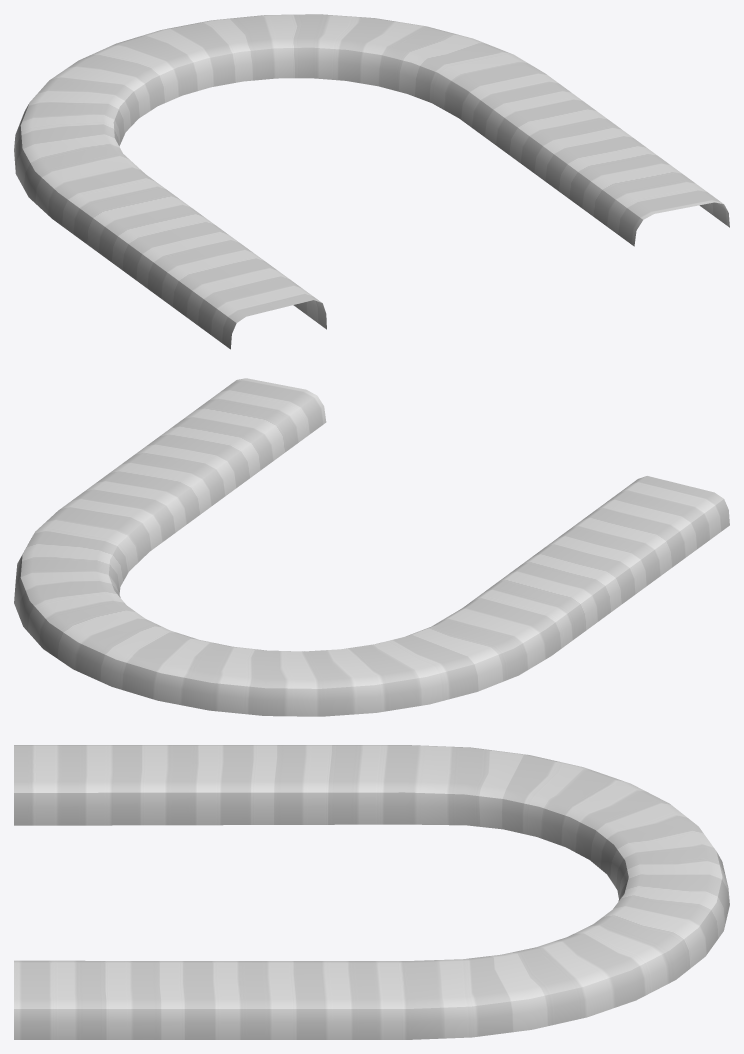
File: road_03.fbx
The picture shows the model from 3 angles, top to bottom: view 1: azimuth 30°, elevation 25°; view 2: azimuth 150°, elevation 25°; view 3: azimuth 270°, elevation 25°; orthographic projection. The views are drawn at different scales.
Parts seen in each view (by area): view 1: rod_03; view 2: rod_03; view 3: rod_03.
Part boxes in pixels (bbox=[...]): rod_03: bbox=[14, 14, 729, 349]; rod_03: bbox=[14, 378, 729, 716]; rod_03: bbox=[14, 745, 729, 1039].
Bounding box in the file's own units: 6552 × 452 × 7336.
Materials: 1 (1 with a texture image).
